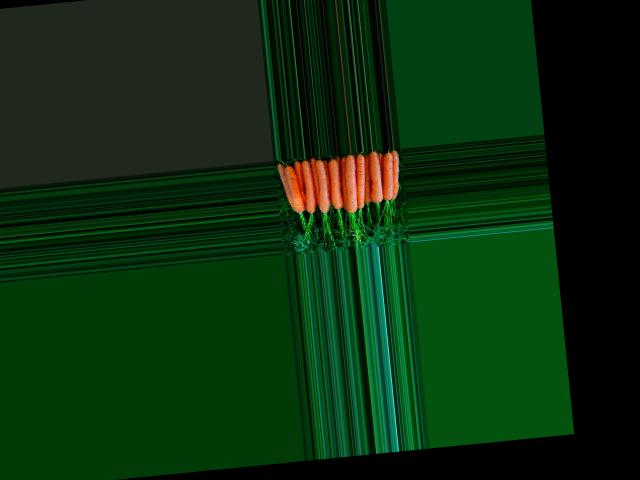carrot: (388, 147, 400, 198)
